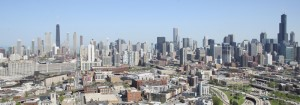willis: (275, 10, 289, 43)
